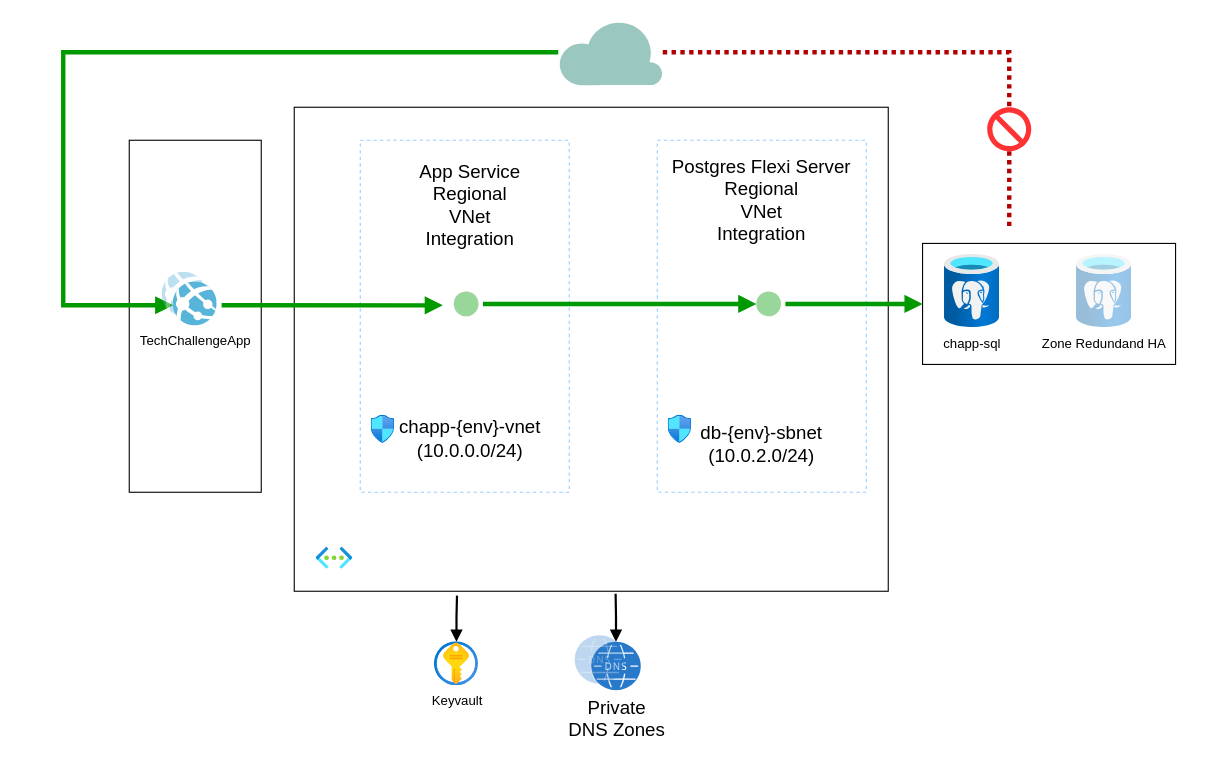
This 1214x774 diagram has some shape labels left out. The shapes that lost their labels are listed below. From the top down, each one's centre as x and y in pixels, then its label:
point 610,52: Internet
point 334,558: chapp-{env}-vnet (10.0.0.0/16)
